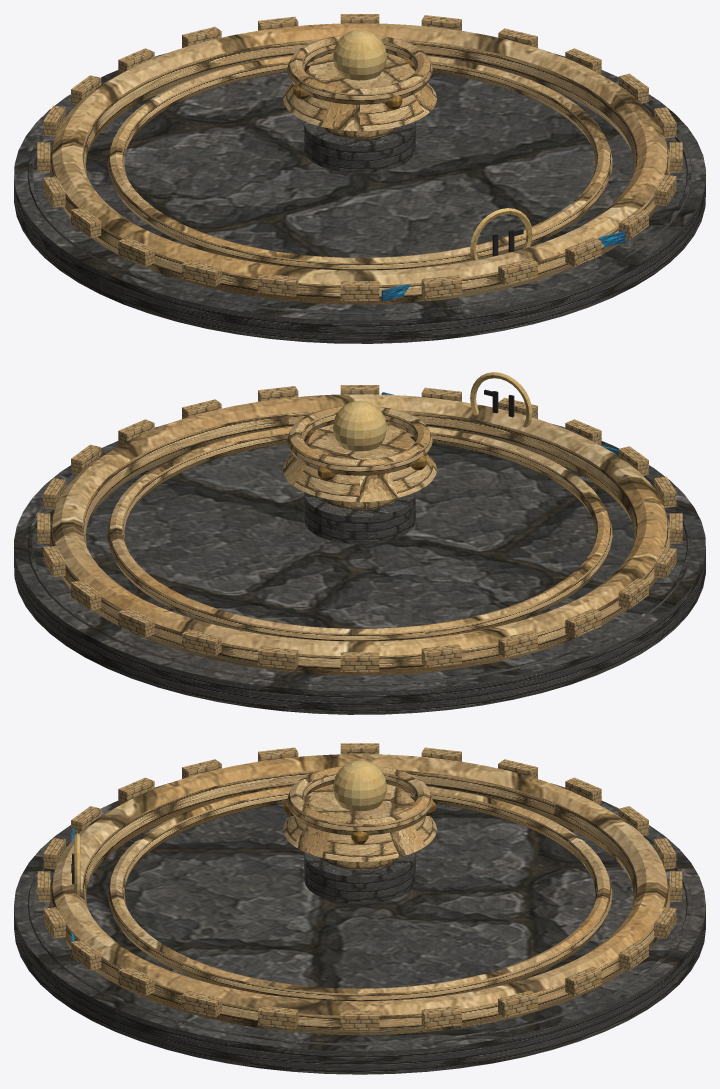
Rendered from fountain-basin.glb.
3 renders of one model, top to bottom at view 1: azimuth 30°, elevation 25°; view 2: azimuth 150°, elevation 25°; view 3: azimuth 270°, elevation 25°, orthographic.
Parts seen in each view (by area): view 1: fountain_basin_landmark; view 2: fountain_basin_landmark; view 3: fountain_basin_landmark.
Part boxes in pixels (<box>): fountain_basin_landmark: <box>14,14,705,343</box>; fountain_basin_landmark: <box>14,372,705,714</box>; fountain_basin_landmark: <box>14,743,705,1074</box>.
Bounding box in the file's own units: 9.7 × 2.56 × 9.7.
7 materials, 7 textured.
